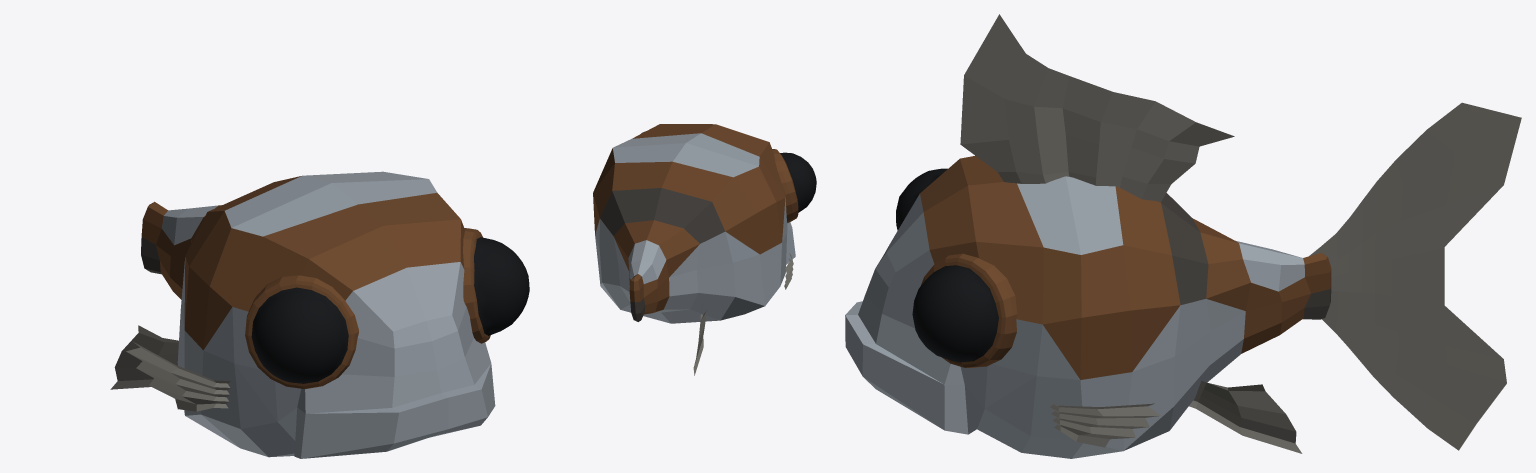
File: cc0-koi-lod0.glb
3 renders of one model, left to right at view 1: azimuth 30°, elevation 25°; view 2: azimuth 150°, elevation 25°; view 3: azimuth 270°, elevation 25°, orthographic. The views are drawn at different scales.
Parts seen in each view (by area): view 1: part_0; view 2: part_0; view 3: part_0.
Part boxes in pixels (left/top/right/bottom): part_0: left=110, top=171, right=529, bottom=458; part_0: left=593, top=124, right=816, bottom=375; part_0: left=845, top=14, right=1521, bottom=458.
Bounding box in the file's own units: 3.15 × 4.47 × 5.6.
